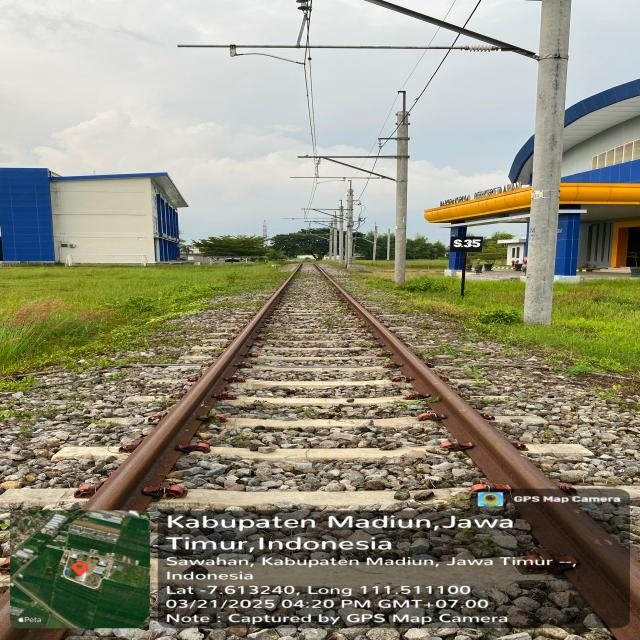rail-detection: (315, 265, 552, 488), (82, 273, 294, 510)
